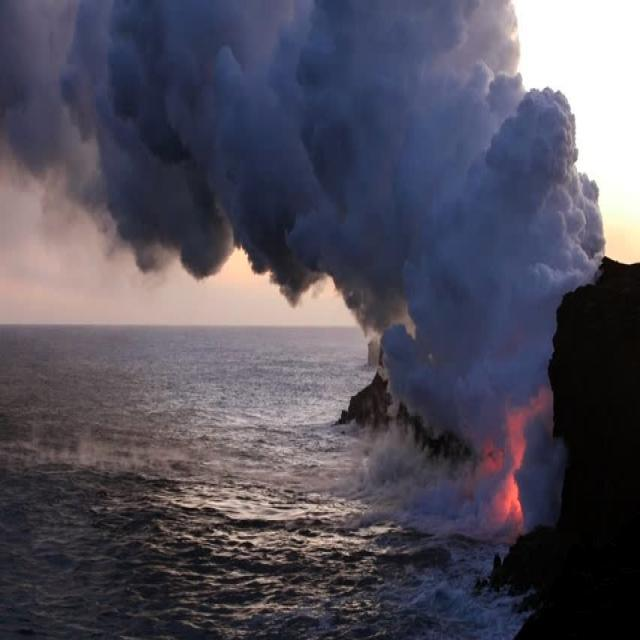Fire: (496, 468, 524, 522)
Smoke: (1, 3, 379, 333), (380, 0, 604, 445)
